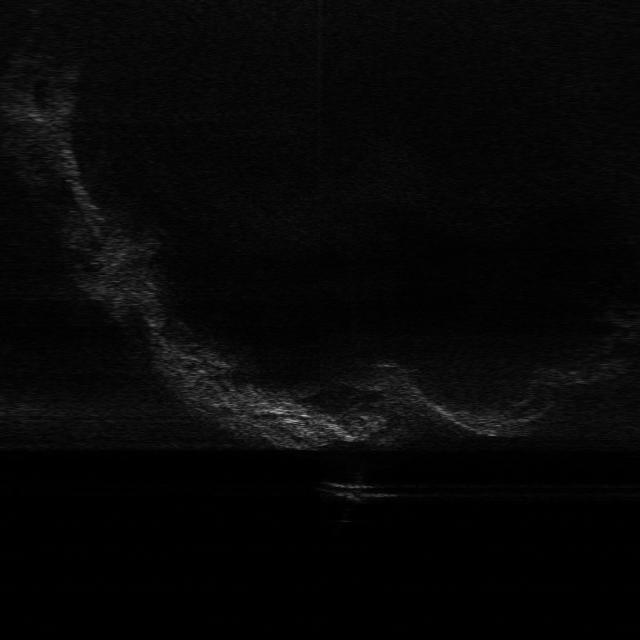plane: (311, 478, 398, 504)
